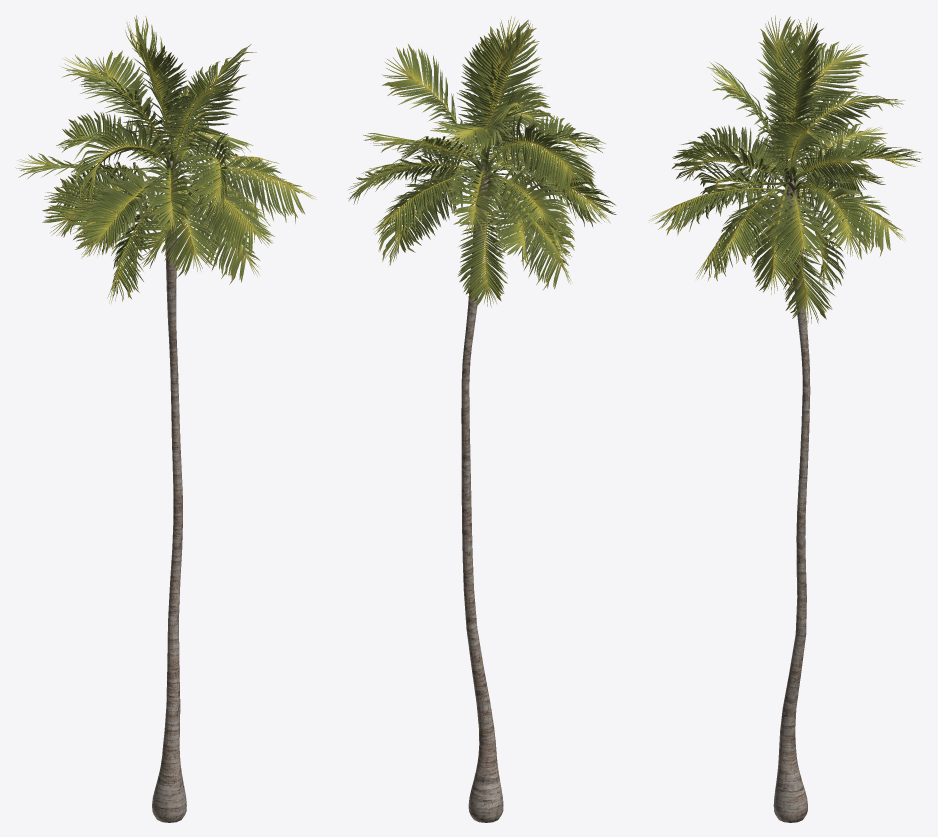
File: coconut_tree.glb
The picture shows the model from 3 angles, left to right: view 1: azimuth 30°, elevation 25°; view 2: azimuth 150°, elevation 25°; view 3: azimuth 270°, elevation 25°; orthographic projection.
Visible parts, largest first — view 1: Coconut-tree; view 2: Coconut-tree; view 3: Coconut-tree.
Boxes of the visible parts, x1,y1,x2,y2 form: Coconut-tree: [15, 15, 315, 822]; Coconut-tree: [348, 16, 616, 822]; Coconut-tree: [648, 15, 922, 822].
Size of the model in its own units: 477 by 1565 by 500.
Materials: 2 (2 with a texture image).
